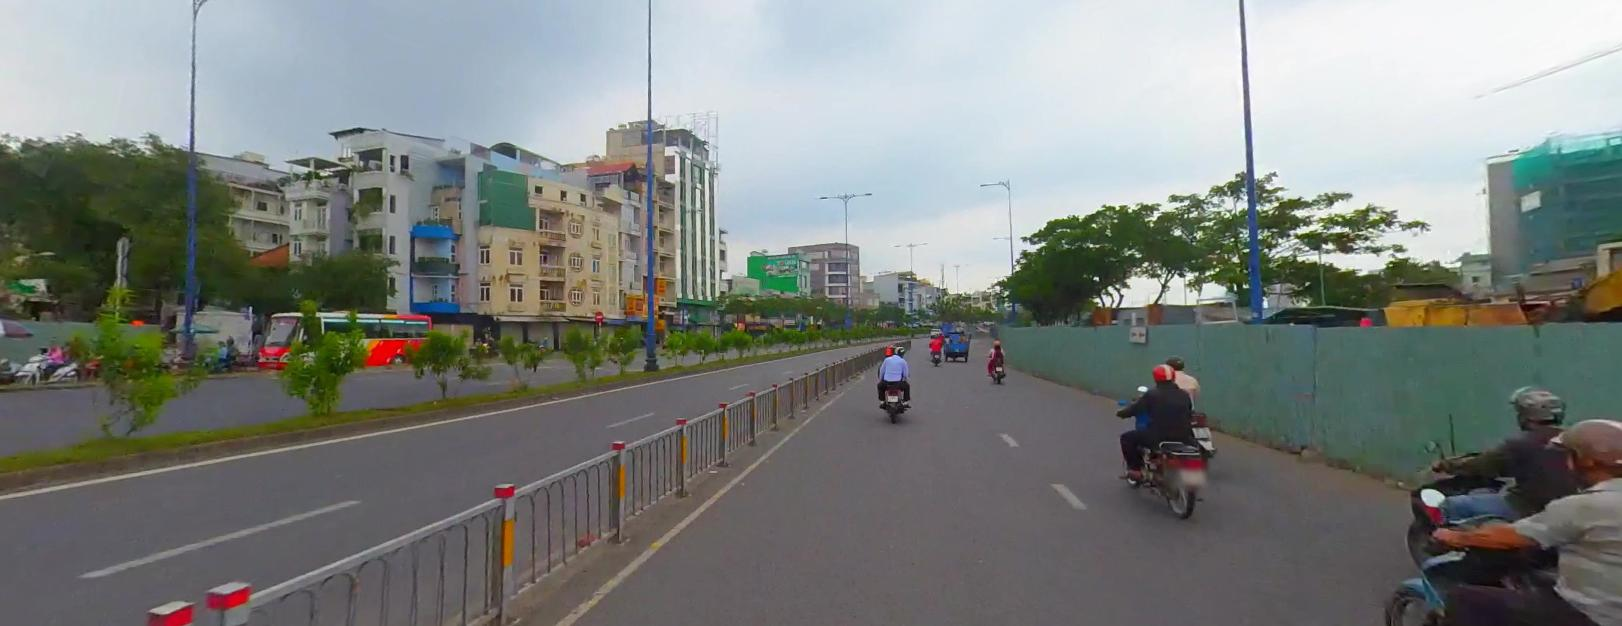Cam nguoc chieu: (594, 310, 603, 320)
